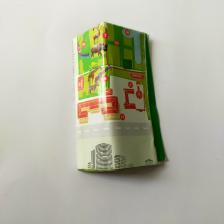Paper: (58, 25, 164, 169)
